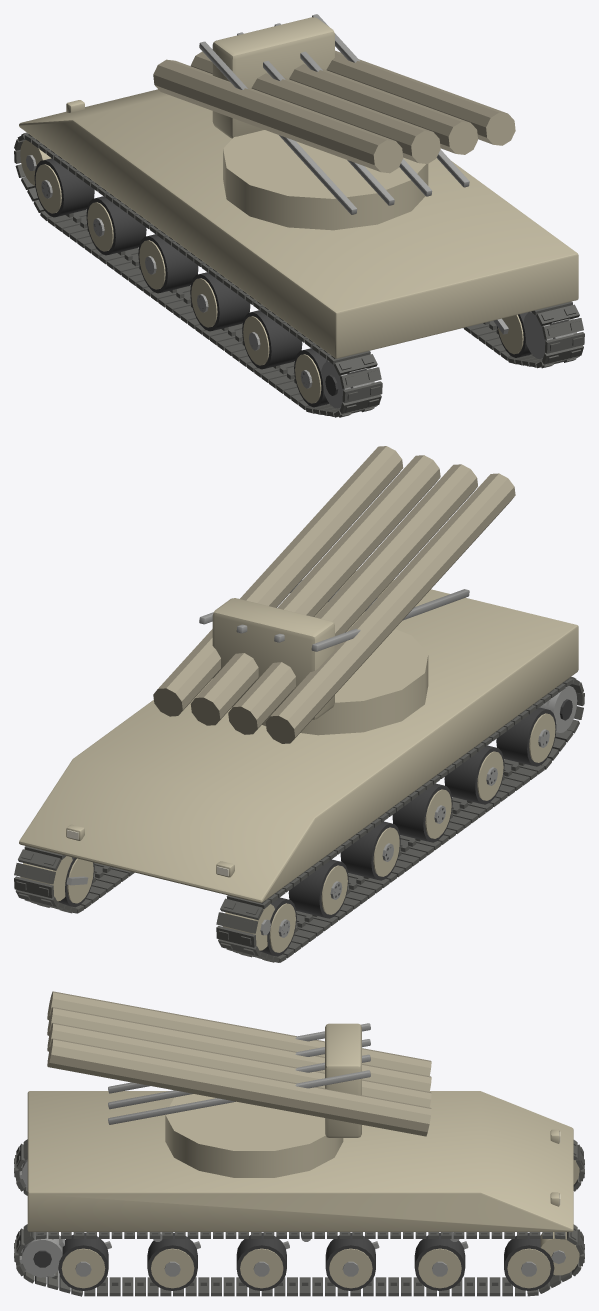
The model's file is rus_aa_buk.glb.
3 renders of one model, top to bottom at view 1: azimuth 30°, elevation 25°; view 2: azimuth 150°, elevation 25°; view 3: azimuth 270°, elevation 25°, orthographic. The views are drawn at different scales.
Visible parts, largest first — view 1: body, barrel, turret; view 2: body, barrel, turret; view 3: body, barrel, turret.
Boxes of the visible parts, x1,y1,x2,y2 form: body: (14,89,584,417); barrel: (153,14,515,214); turret: (212,17,428,230); body: (14,571,584,962); barrel: (153,446,515,743); turret: (212,598,428,735); body: (14,1091,584,1296); barrel: (47,991,431,1136); turret: (165,1023,361,1177).
Size of the model in its own units: 3.25 by 3.44 by 7.69.
